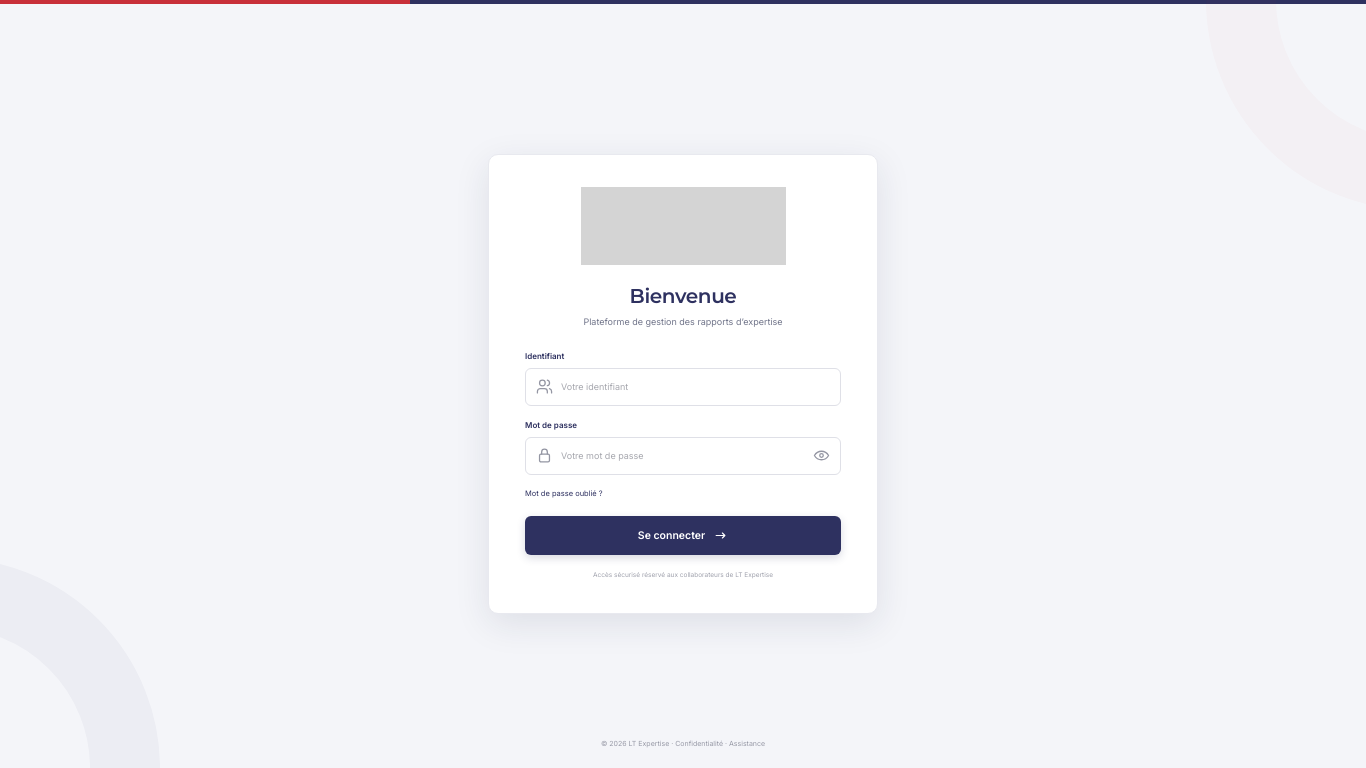
Test: page de connexion › valide les champs sans appeler le serveur
Click the button "Se connecter".
click(683, 536)  # box [525,516,841,555]
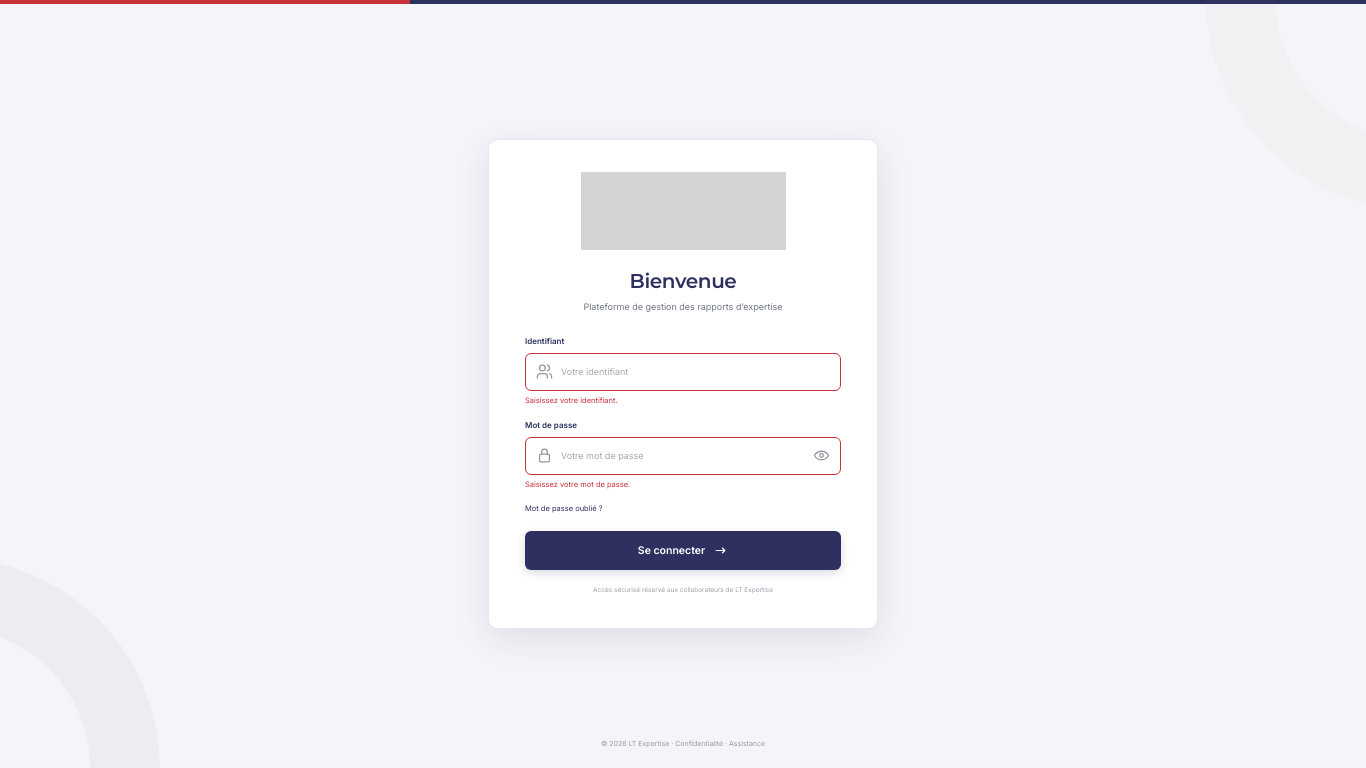
Now the text "Saisissez votre identifiant." is shown, box [525,396,618,404]
Now the text "Saisissez votre mot de passe." is shown, box [525,480,630,489]
